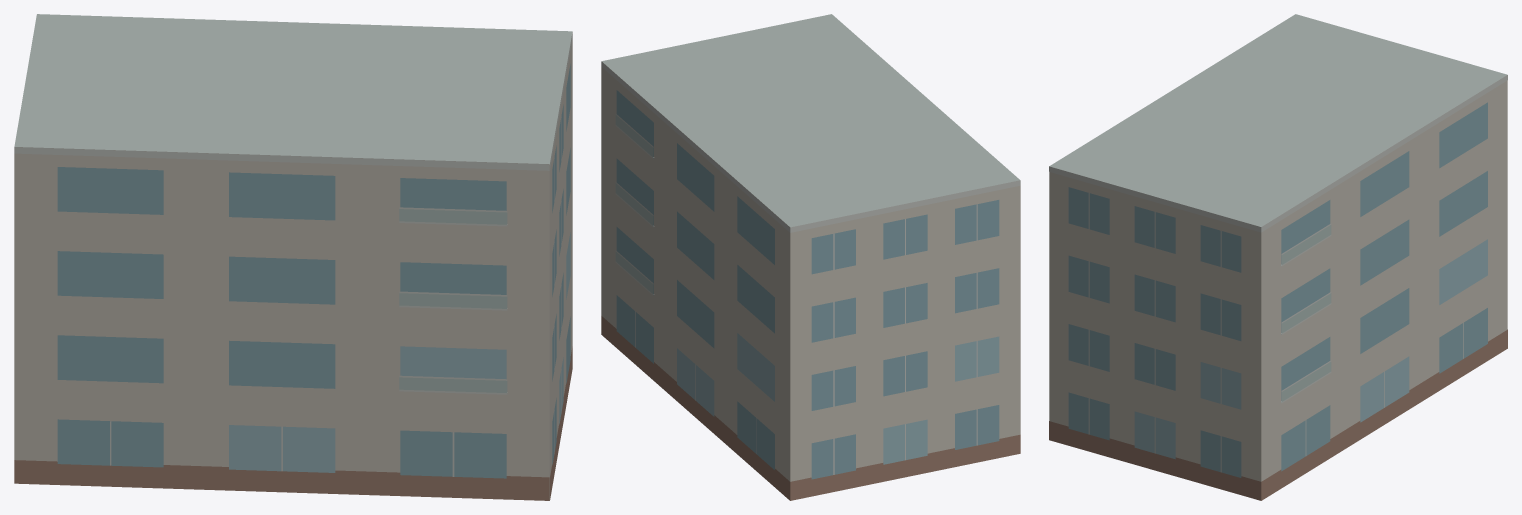
Rendered from survey-upis-32775803.glb.
The picture shows the model from 3 angles, left to right: view 1: azimuth 30°, elevation 25°; view 2: azimuth 150°, elevation 25°; view 3: azimuth 270°, elevation 25°; orthographic projection. The views are drawn at different scales.
Parts seen in each view (by area): view 1: survey-upis-32775803.tmp; view 2: survey-upis-32775803.tmp; view 3: survey-upis-32775803.tmp.
Boxes of the visible parts, x1,y1,x2,y2 form: survey-upis-32775803.tmp: [14, 14, 572, 500]; survey-upis-32775803.tmp: [601, 14, 1020, 500]; survey-upis-32775803.tmp: [1049, 14, 1507, 500].
Bounding box in the file's own units: 20.37 × 12.2 × 18.53.
